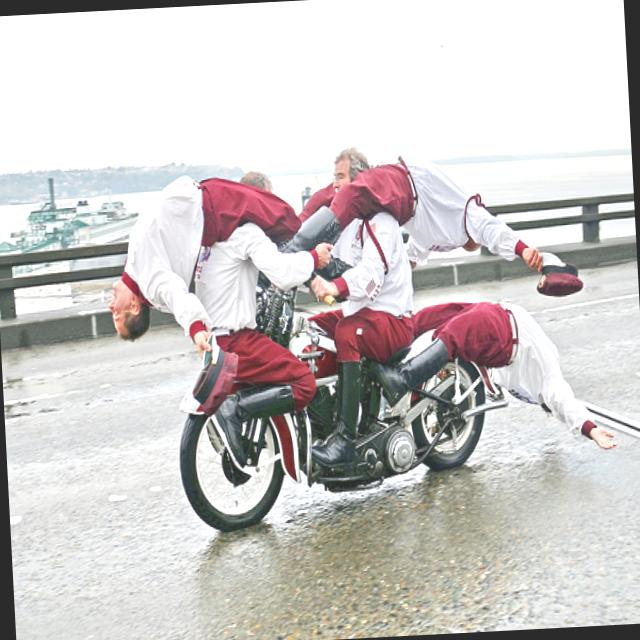Vehicle: (172, 266, 512, 540)
